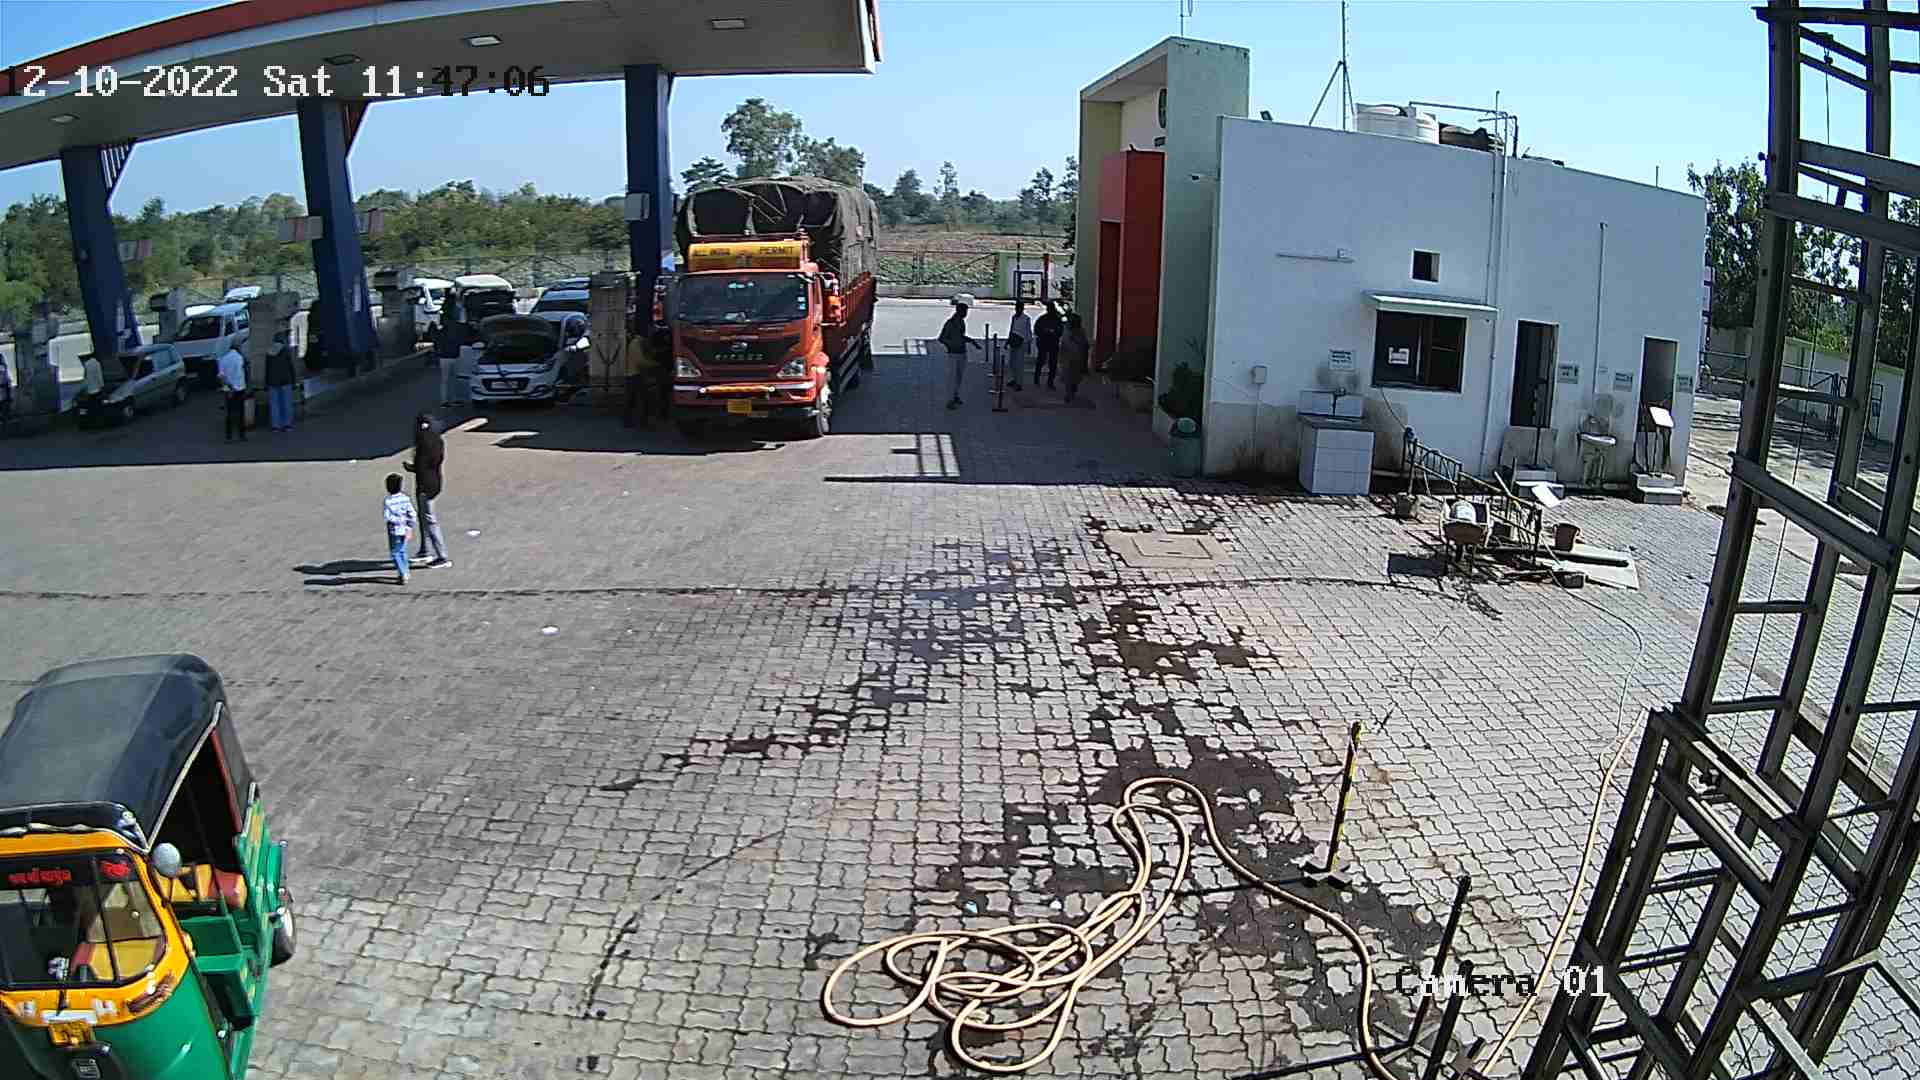Auto: (0, 622, 314, 1076)
Car: (47, 326, 199, 438), (448, 302, 596, 415), (150, 287, 262, 407), (439, 258, 535, 360), (386, 260, 462, 351), (520, 266, 607, 338), (289, 281, 336, 378), (1, 335, 29, 426), (161, 287, 220, 326), (208, 284, 277, 314)
HMV: (637, 146, 902, 458)
